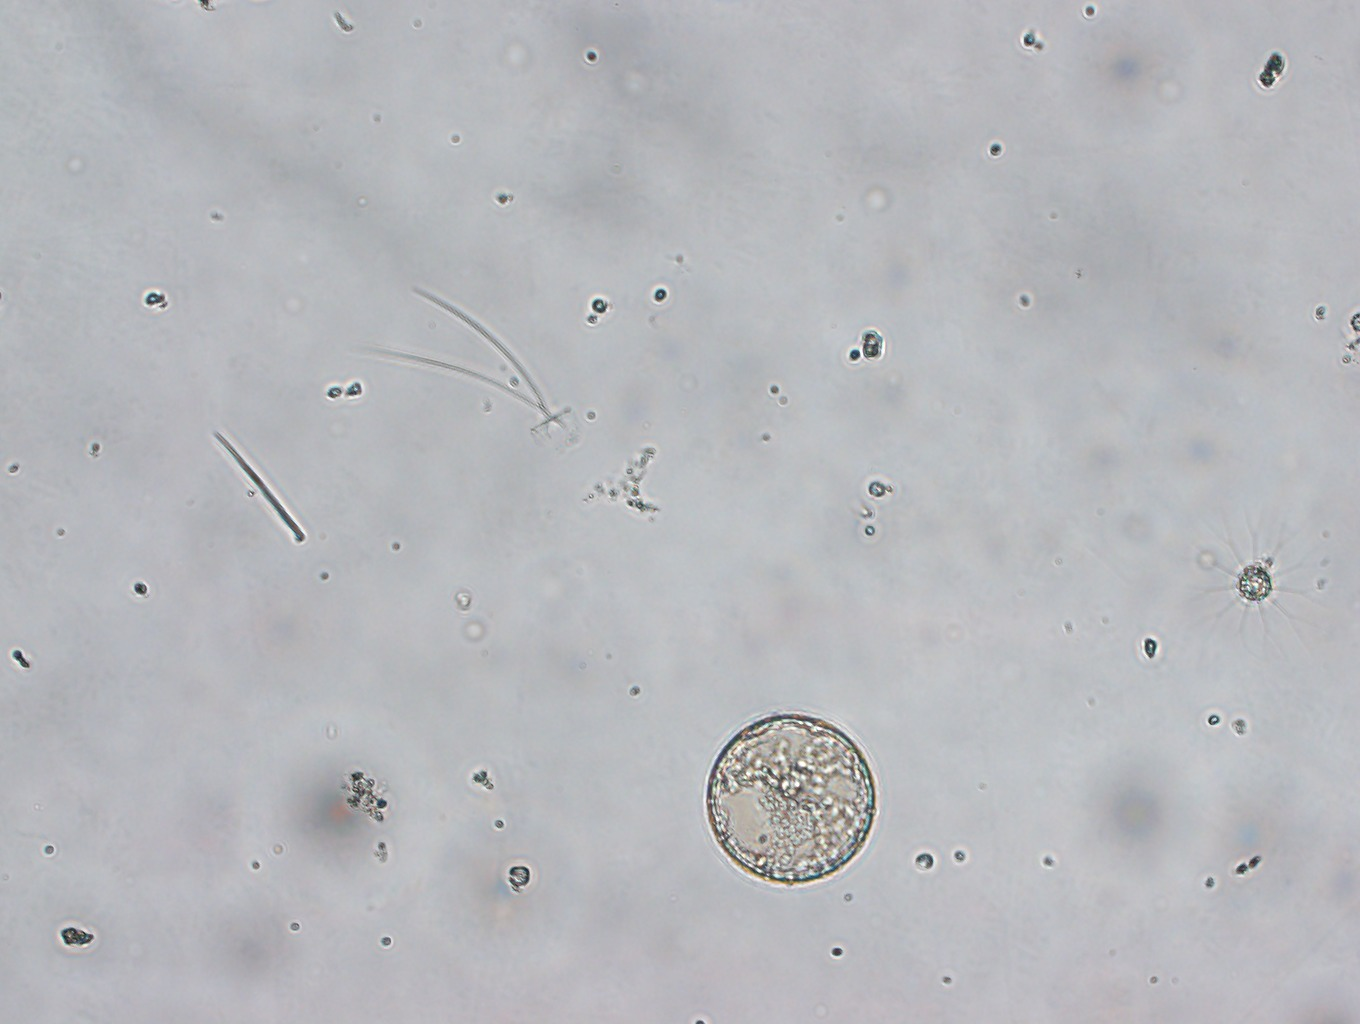coscinodiscus: (701, 707, 882, 887)
